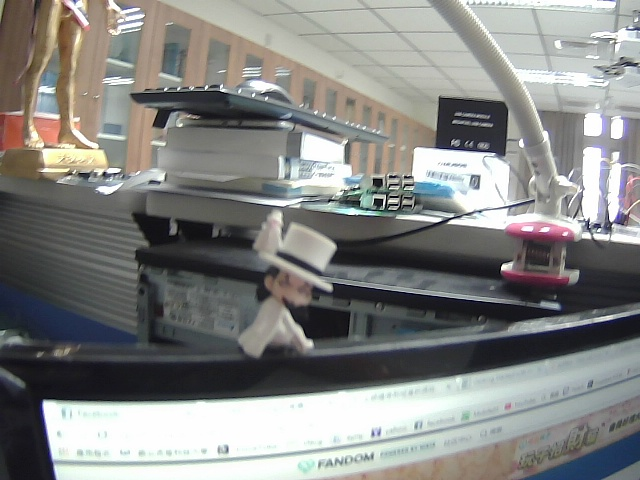lucci: (233, 201, 346, 362)
